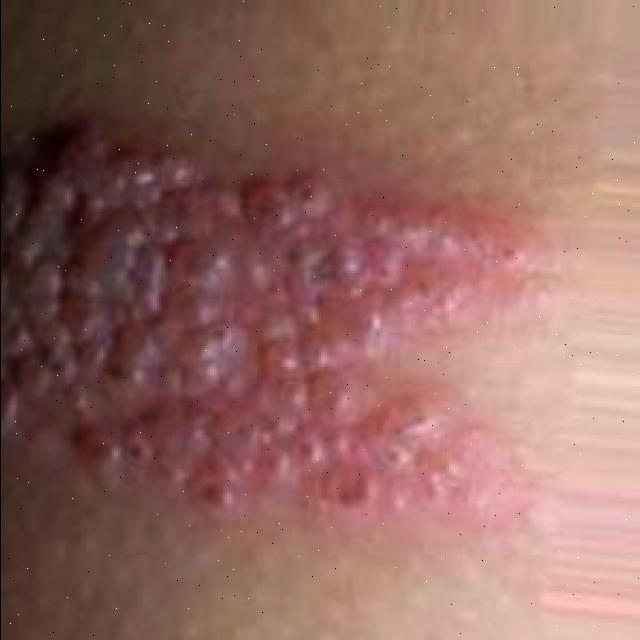Shingles: (0, 117, 540, 523)
